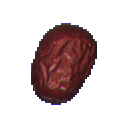gd: (21, 16, 117, 113)
